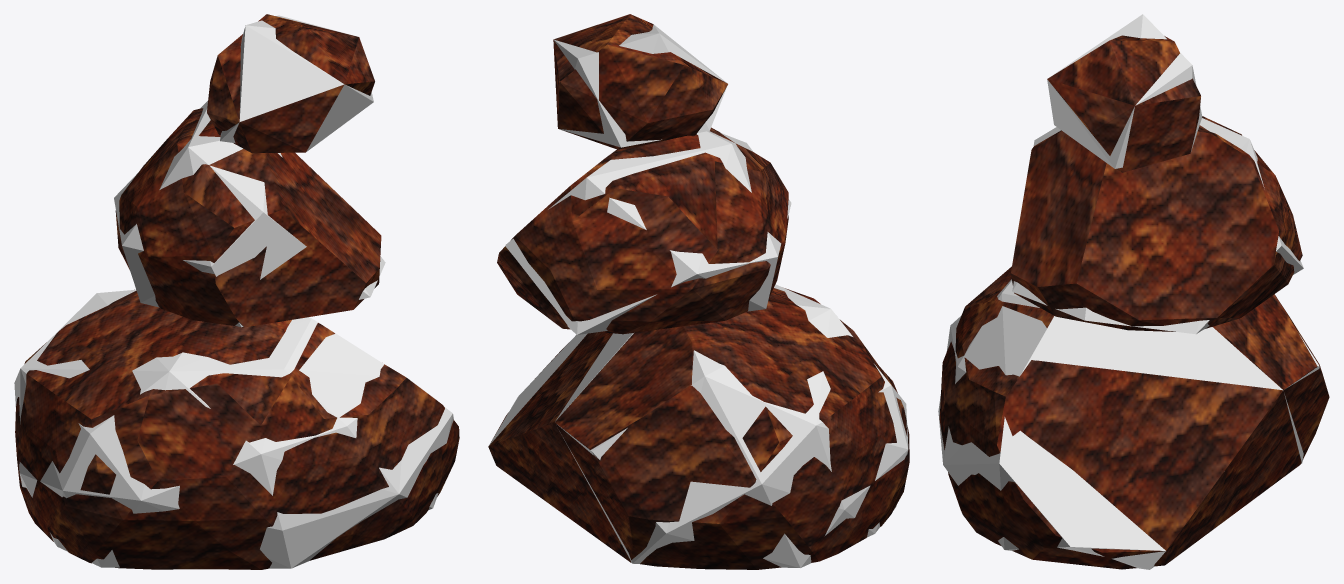
The model's file is Laterita-05-Pilha.glb.
The picture shows the model from 3 angles, left to right: view 1: azimuth 30°, elevation 25°; view 2: azimuth 150°, elevation 25°; view 3: azimuth 270°, elevation 25°; orthographic projection. The views are drawn at different scales.
Parts seen in each view (by area): view 1: Laterita-05-Pilha, Laterita-05-Pilha_COL; view 2: Laterita-05-Pilha, Laterita-05-Pilha_COL; view 3: Laterita-05-Pilha, Laterita-05-Pilha_COL.
Part boxes in pixels (x1=…): Laterita-05-Pilha: x1=15, y1=14, x2=459, y2=569; Laterita-05-Pilha_COL: x1=14, y1=15, x2=453, y2=568; Laterita-05-Pilha: x1=488, y1=14, x2=909, y2=569; Laterita-05-Pilha_COL: x1=489, y1=24, x2=908, y2=567; Laterita-05-Pilha: x1=939, y1=35, x2=1329, y2=569; Laterita-05-Pilha_COL: x1=938, y1=14, x2=1319, y2=569.
Size of what is drawn, in the model's own units: 2.33 by 2.62 by 1.95.
Materials: 1 (1 with a texture image).
